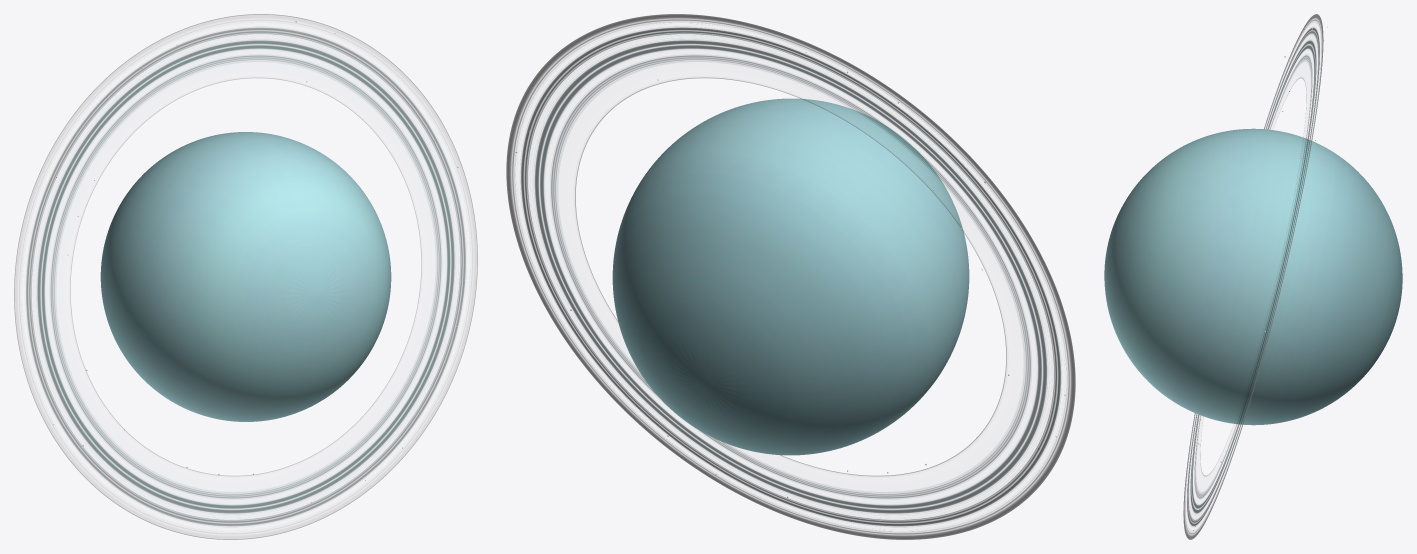
The model's file is uranus-transformed.glb.
3 renders of one model, left to right at view 1: azimuth 30°, elevation 25°; view 2: azimuth 150°, elevation 25°; view 3: azimuth 270°, elevation 25°, orthographic. The views are drawn at different scales.
Parts seen in each view (by area): view 1: Uranus, Uranus_Rings.003; view 2: Uranus, Uranus_Rings.003; view 3: Uranus, Uranus_Rings.003.
Boxes of the visible parts, <box> form: Uranus: <box>100,132,391,421</box>; Uranus_Rings.003: <box>14,14,477,539</box>; Uranus: <box>612,98,969,455</box>; Uranus_Rings.003: <box>506,14,1075,539</box>; Uranus: <box>1104,128,1402,425</box>; Uranus_Rings.003: <box>1183,14,1323,539</box>.
Bounding box in the file's own units: 91.05 × 87.95 × 50.17.
Materials: 3 (2 with a texture image).
